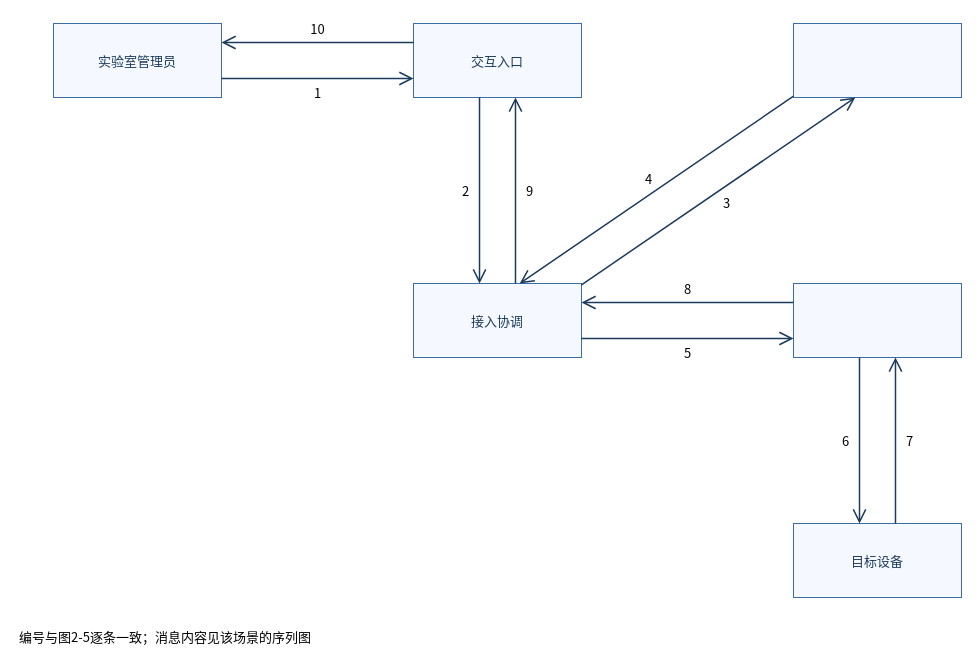
Some shapes in this 979 by 666 pixel diagram are drawn without their labels. Each missing label, with the centre of its shape:
接入适配: pixel 877 320
认证对象: pixel 877 60
